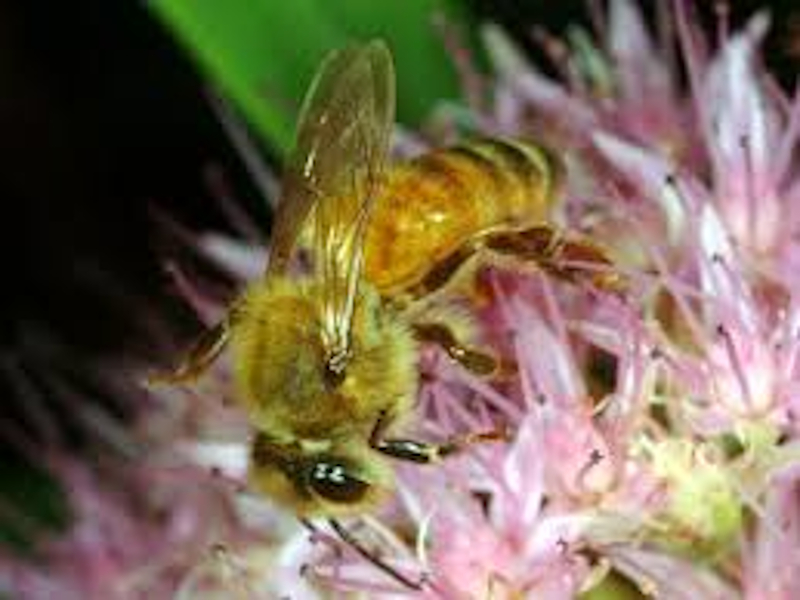abeja: (186, 30, 599, 545)
